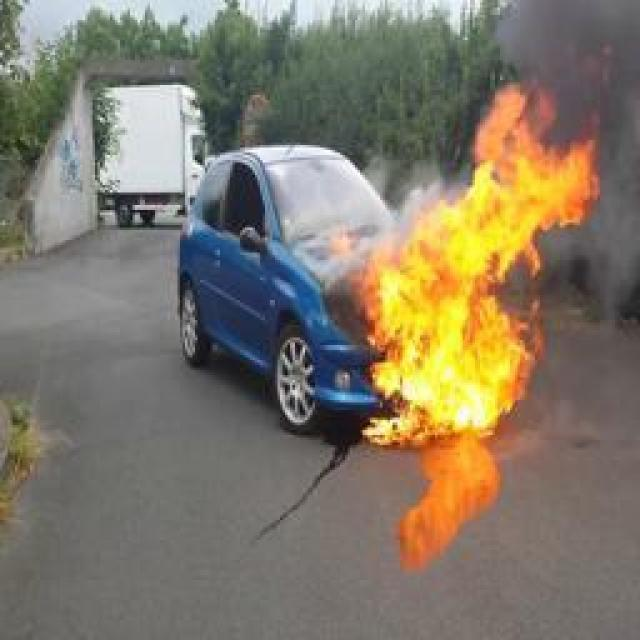Fire: (360, 86, 600, 434)
